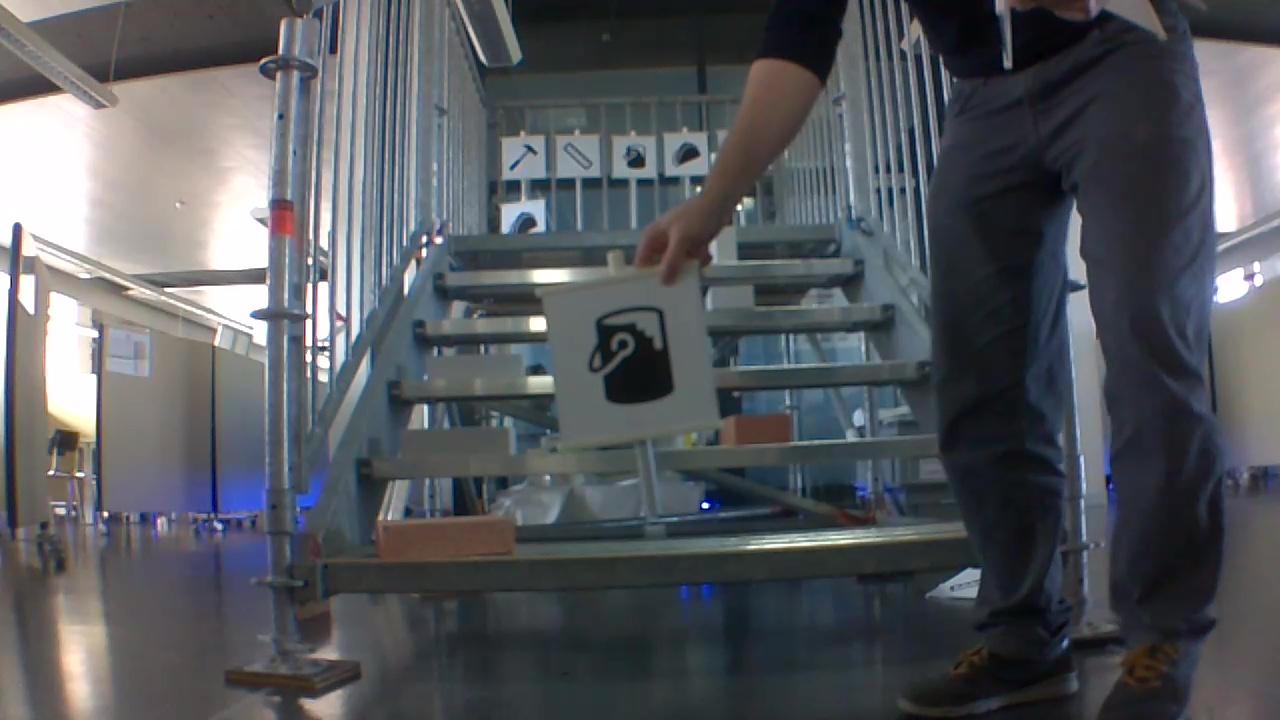brick: (374, 515, 515, 564), (395, 425, 517, 462), (422, 349, 522, 384), (714, 410, 796, 450), (706, 283, 753, 309), (710, 227, 737, 266)
bucket: (585, 303, 677, 407), (618, 139, 648, 173)
edge: (315, 530, 973, 598)
hammer: (506, 142, 539, 172)
ruler: (563, 141, 594, 172)
taco: (669, 140, 705, 167), (503, 208, 539, 234)
